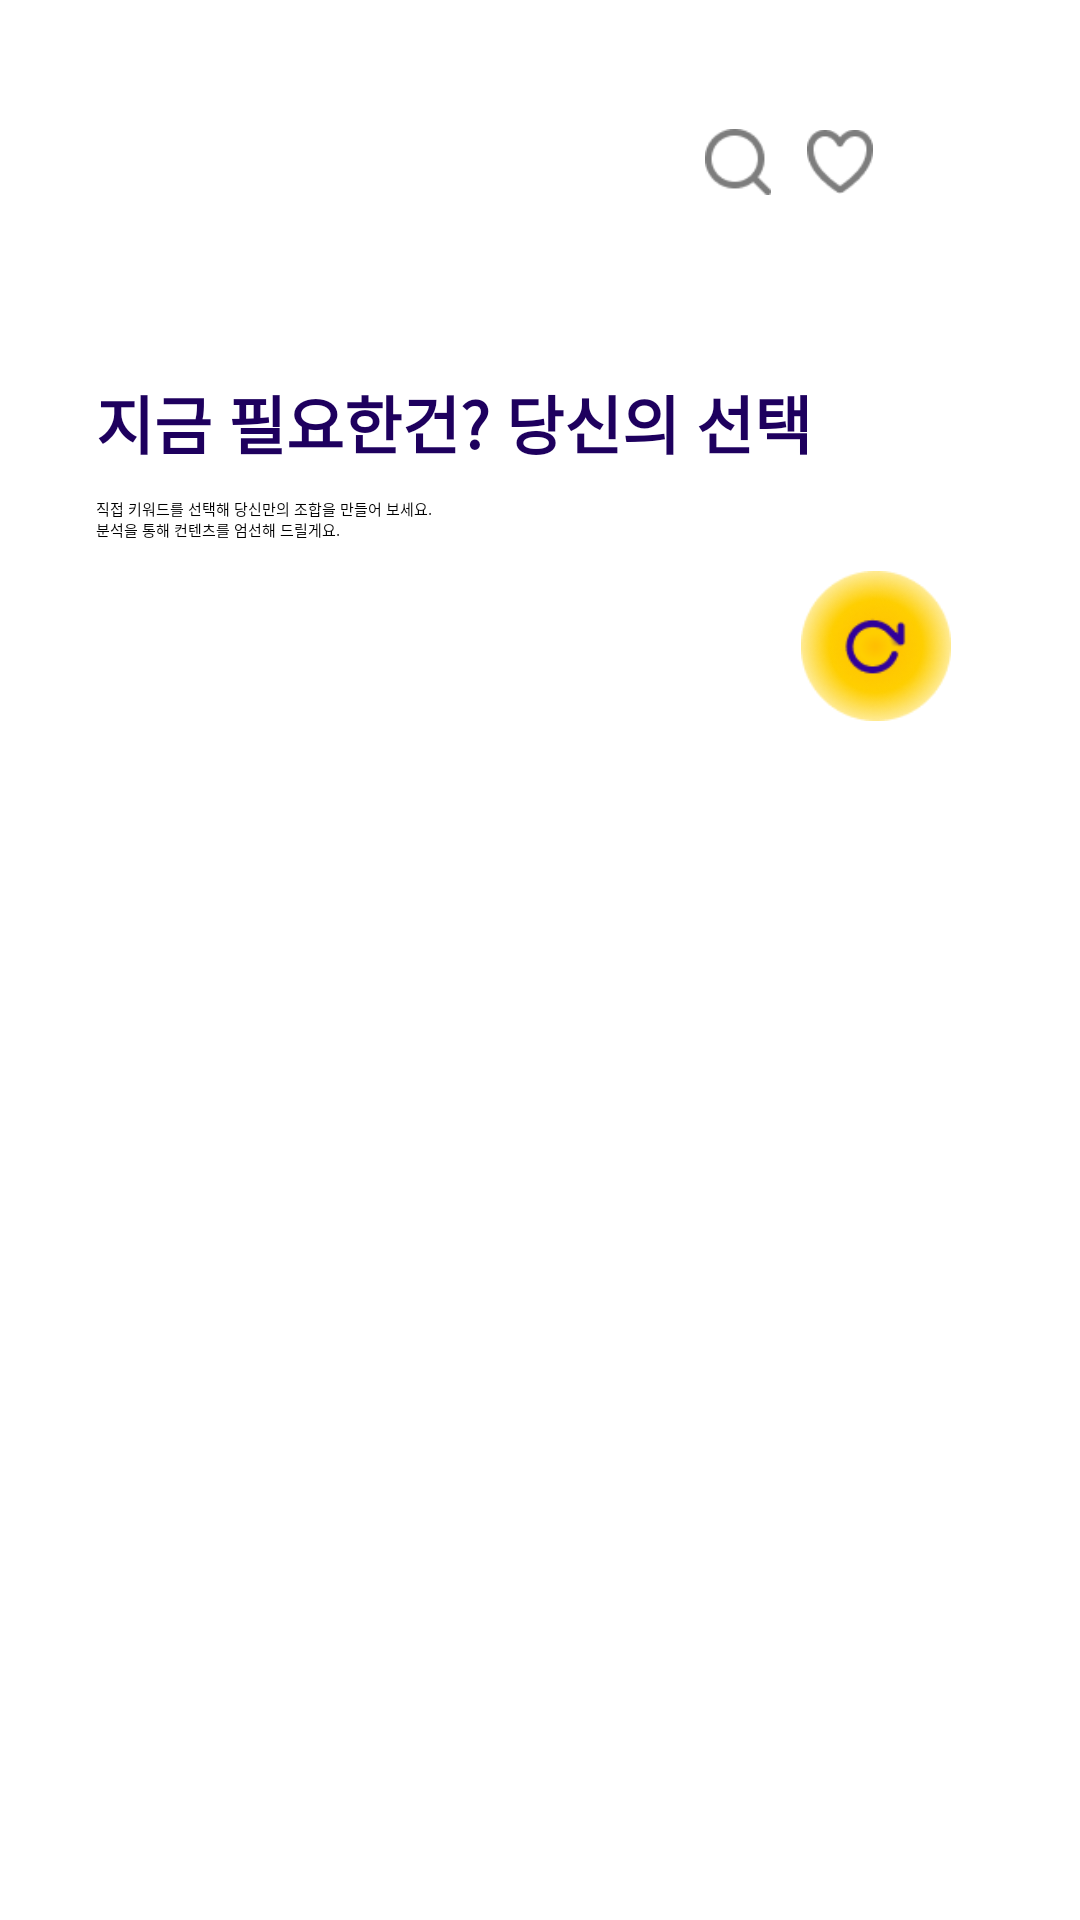

Where icons sit on this 1080px x 1920px app screen, as (x1, y1, x2, y2):
heartgray: (807, 130, 873, 193)
refresh: (801, 571, 951, 721)
search: (705, 129, 771, 195)
